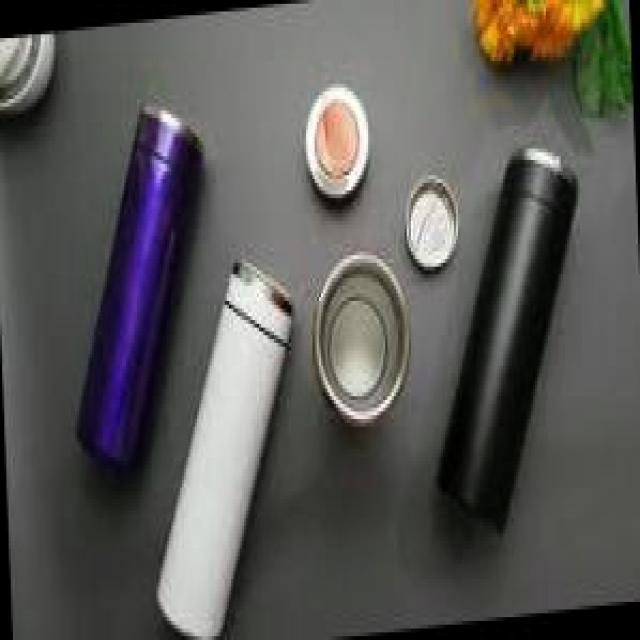bottle: (418, 137, 592, 549), (139, 232, 308, 640), (59, 91, 219, 480)
